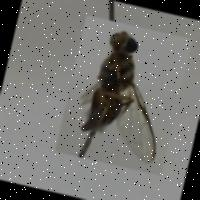Oriental-fruit-fly: (53, 14, 191, 176)
